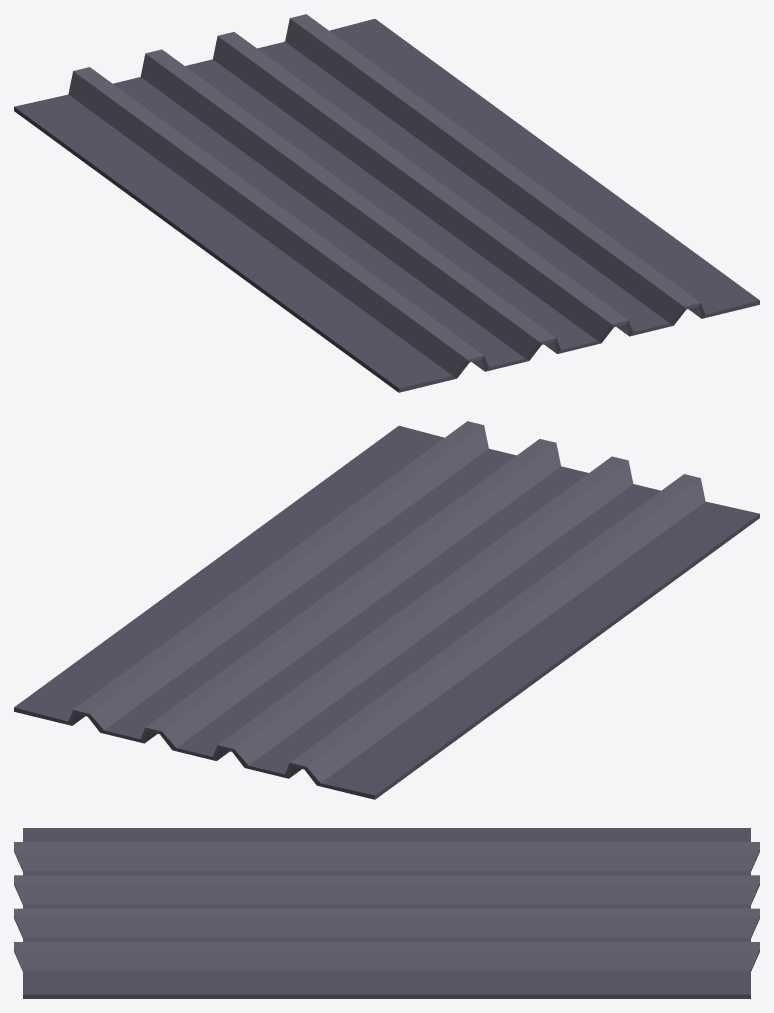
Rendered from SM_MetalSheet.fbx.
3 views of the same model, one above another, from view 1: azimuth 30°, elevation 25°; view 2: azimuth 150°, elevation 25°; view 3: azimuth 270°, elevation 25° (orthographic). The views are drawn at different scales.
Parts seen in each view (by area): view 1: MetalSheet; view 2: MetalSheet; view 3: MetalSheet.
Boxes of the visible parts, x1,y1,x2,y2 form: MetalSheet: (14,14,759,392); MetalSheet: (14,421,759,799); MetalSheet: (14,828,759,998).
Bounding box in the file's own units: 54.98 × 3.05 × 104.
